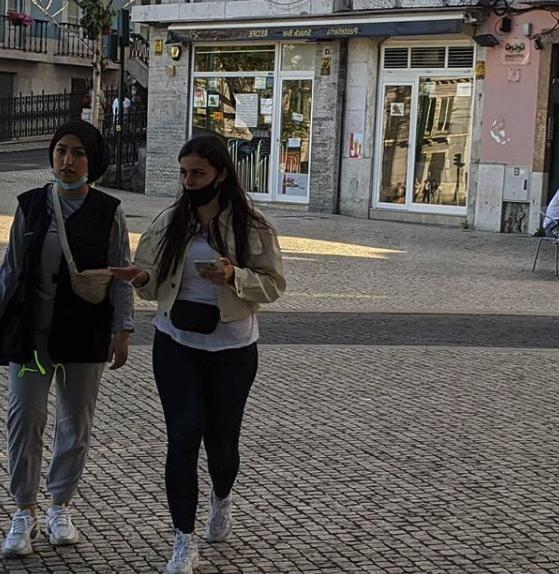mask_weared_incorrect: (50, 142, 91, 193), (175, 158, 217, 201)
